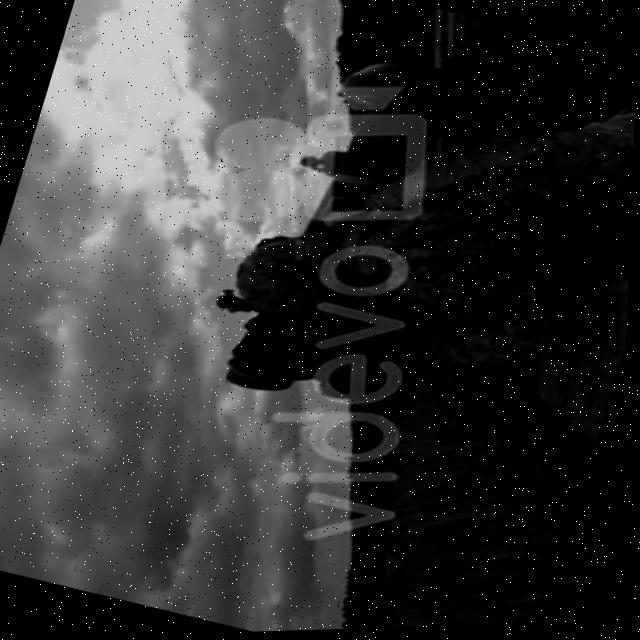rocket: (148, 0, 566, 452)
